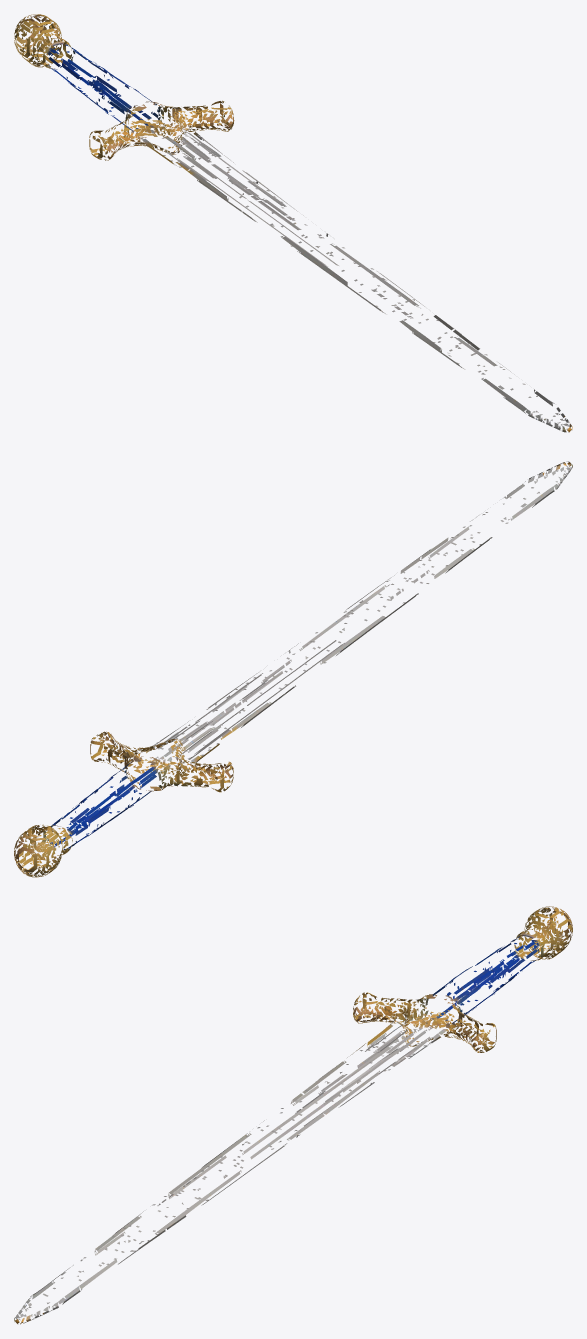
Rendered from w_longsword.glb.
The picture shows the model from 3 angles, top to bottom: view 1: azimuth 30°, elevation 25°; view 2: azimuth 150°, elevation 25°; view 3: azimuth 330°, elevation 25°; orthographic projection.
Parts seen in each view (by area): view 1: shape_clean_textured; view 2: shape_clean_textured; view 3: shape_clean_textured.
Part boxes in pixels (<box>): shape_clean_textured: <box>14,14,572,432</box>; shape_clean_textured: <box>14,461,572,877</box>; shape_clean_textured: <box>14,906,572,1324</box>.
Size of the model in its own units: 0.2833 by 0.0917 by 1.99.
1 material, 1 textured.
